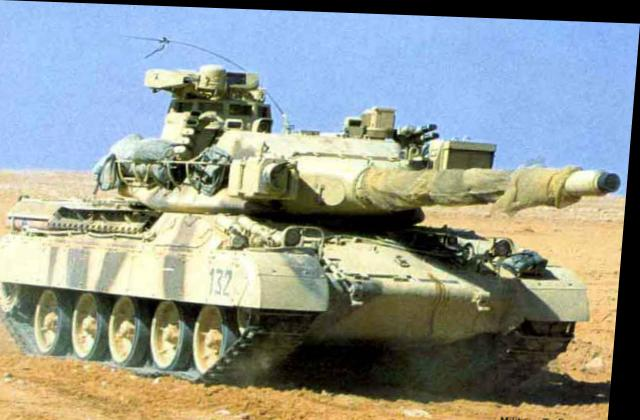tank: (0, 108, 623, 390)
